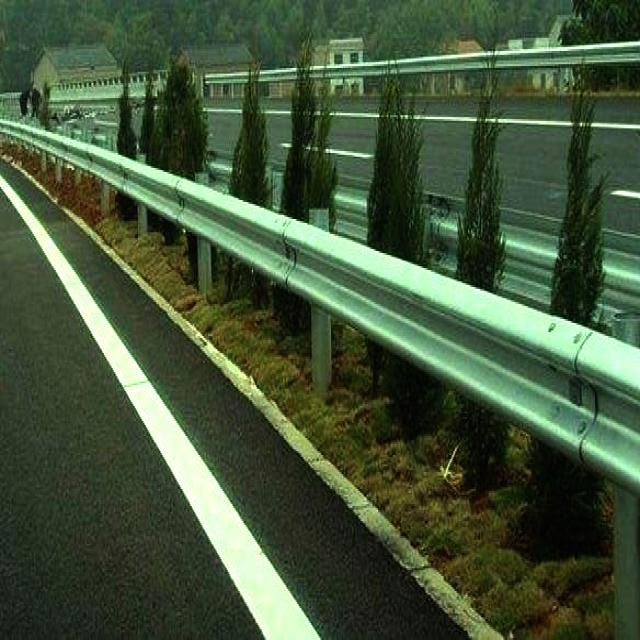Guard rail: (0, 120, 640, 496), (314, 42, 640, 80), (206, 71, 245, 86), (260, 67, 296, 82)
